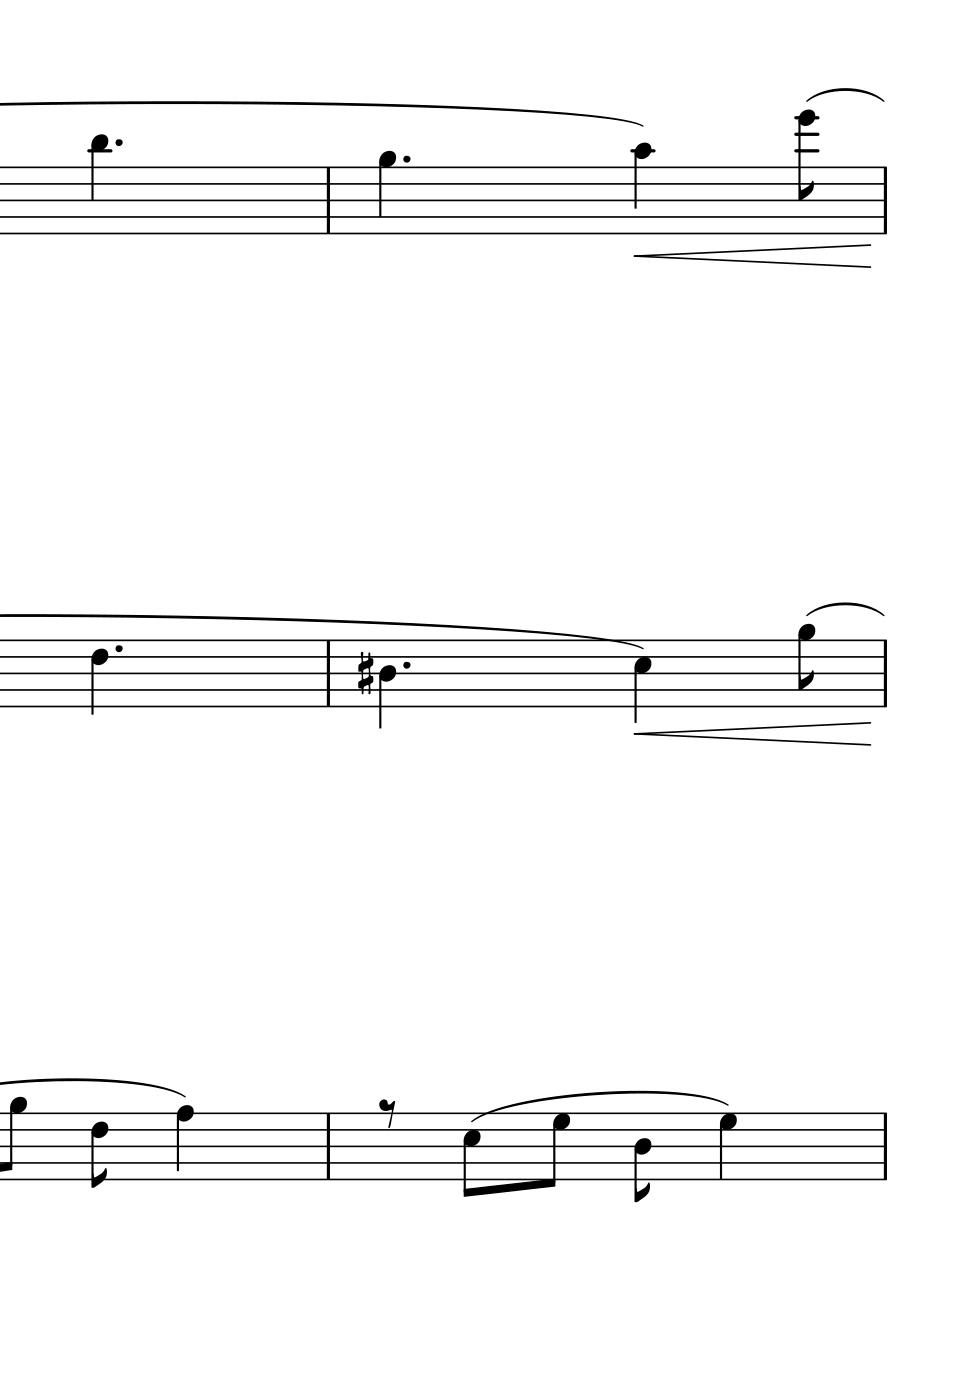4_10: (629, 141, 655, 236)
4_11: (86, 130, 110, 239)
4_4: (377, 639, 399, 731)
4_5: (632, 637, 653, 724)
4_6: (88, 638, 110, 718)
4_7: (717, 1111, 740, 1182)
4_8: (172, 1103, 196, 1183)
4_9: (377, 150, 398, 236)
8_14: (794, 107, 819, 236)
8_4: (631, 1111, 653, 1204)
8_5: (460, 1111, 482, 1200)
8_6: (88, 1111, 111, 1192)
8_7: (541, 1110, 571, 1190)
8_9: (1, 1094, 28, 1185), (797, 622, 816, 710)
Crescendo_hairpin: (636, 721, 875, 747), (635, 244, 873, 269)
Rests8: (377, 1095, 400, 1130)
Sharp: (354, 650, 374, 697)
Single_barline: (319, 1113, 337, 1179), (319, 168, 337, 232), (876, 1112, 893, 1180), (876, 166, 892, 233), (876, 641, 892, 707), (320, 641, 336, 705)
Slur: (469, 1087, 731, 1122), (807, 601, 891, 617), (808, 86, 886, 101)
dot: (400, 657, 413, 672), (112, 136, 125, 150), (112, 642, 125, 655), (400, 153, 412, 166)
